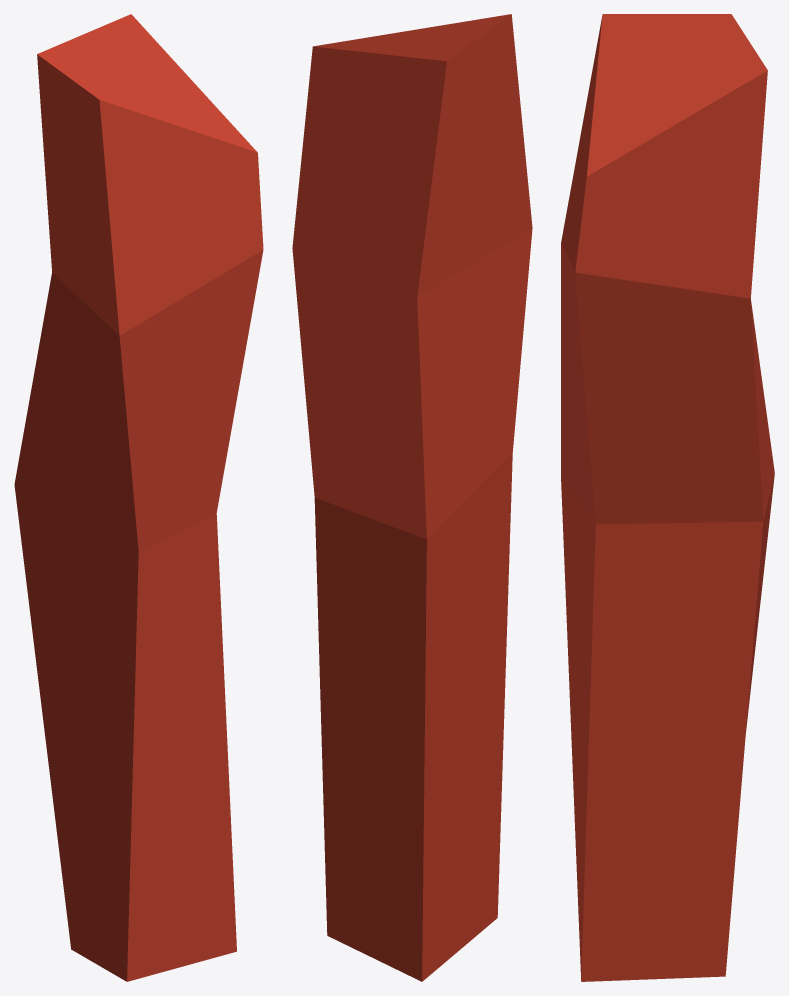
The model's file is pillar.obj.
The picture shows the model from 3 angles, left to right: view 1: azimuth 30°, elevation 25°; view 2: azimuth 150°, elevation 25°; view 3: azimuth 270°, elevation 25°; orthographic projection. The views are drawn at different scales.
Visible parts, largest first — view 1: Cube; view 2: Cube; view 3: Cube.
Boxes of the visible parts, left/top/right/bottom form: Cube: left=14, top=14, right=263, bottom=981; Cube: left=292, top=14, right=532, bottom=981; Cube: left=561, top=14, right=774, bottom=981.
Size of the model in its own units: 0.7383 by 4.16 by 0.8682.
